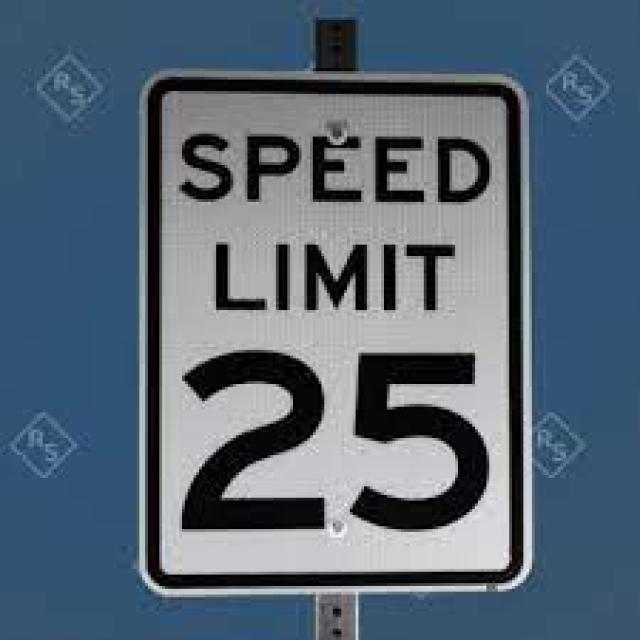speedLimit25: (135, 70, 540, 596)
